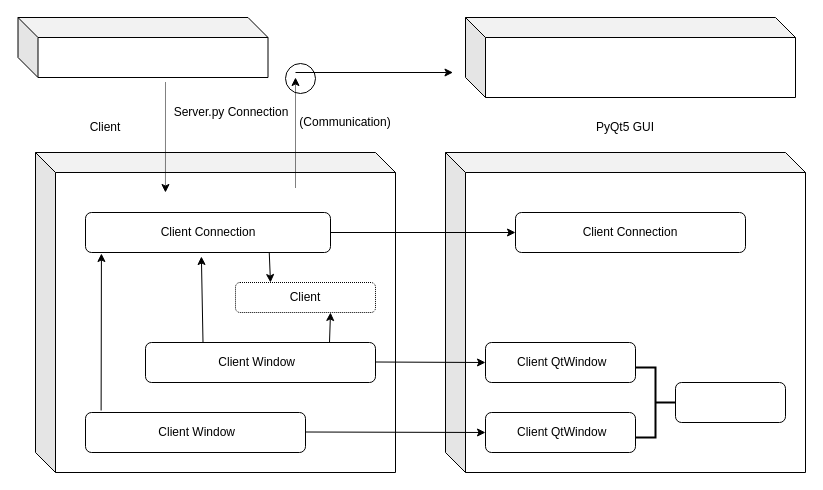
This 823x490 diagram has some shape labels left out. The centre of each missing label's shape, as x and y in pixels:
"Google Speech to Text Module" goes at point 630,57.
"gTTS Module for Text to Speech" goes at point 142,47.
"GUI Frame" goes at point 730,402.
